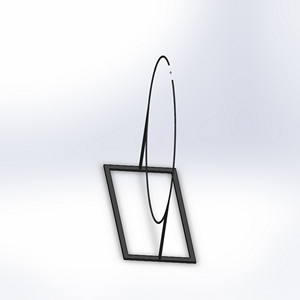circle: (102, 52, 197, 264)
